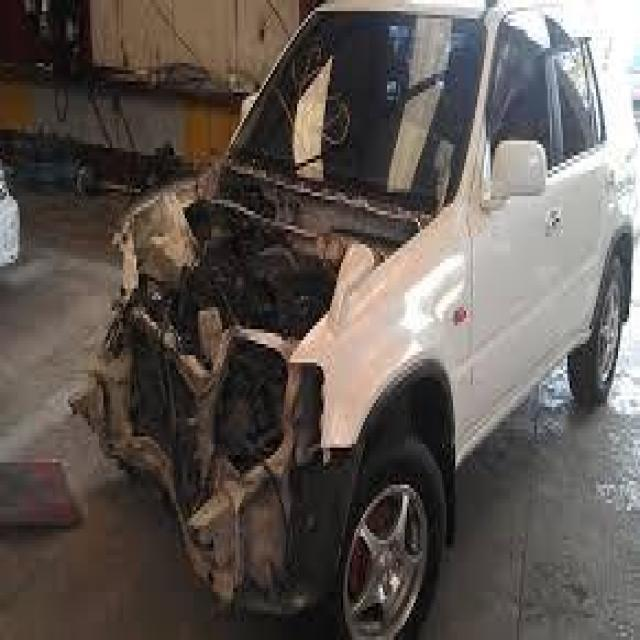damaged: (81, 155, 394, 610)
